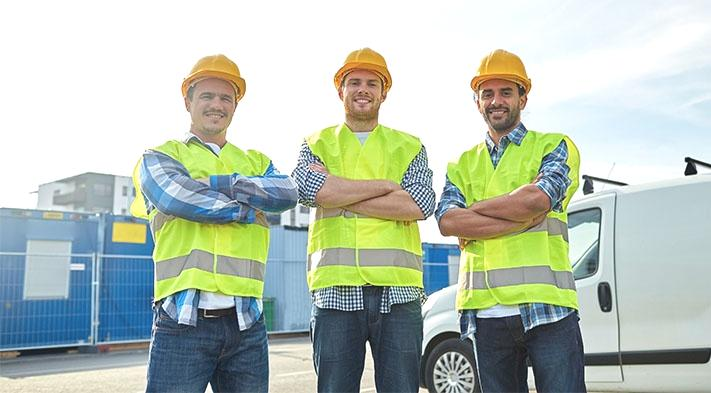helmet: (177, 51, 250, 135), (467, 46, 533, 133), (330, 44, 395, 126)
reflective: (132, 134, 287, 304), (440, 130, 585, 304), (295, 122, 435, 287)
